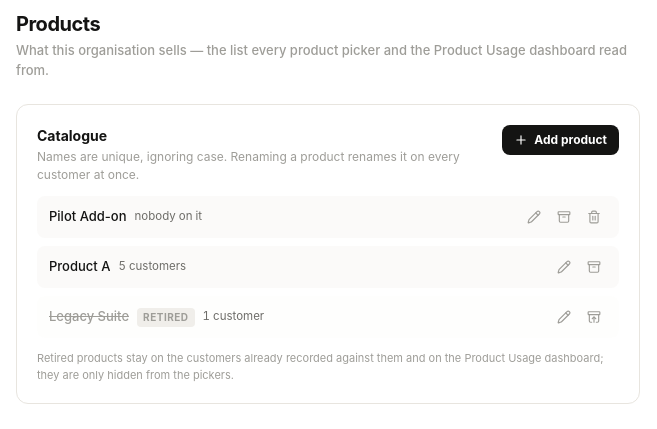
ProductsPage › renames a product in place
This screenshot has width=657, height=429.
Expected: the text "Product A" is shown, [49, 257, 110, 277]
Click the button named "Rename Product A" at [564, 267], box [551, 254, 577, 280]
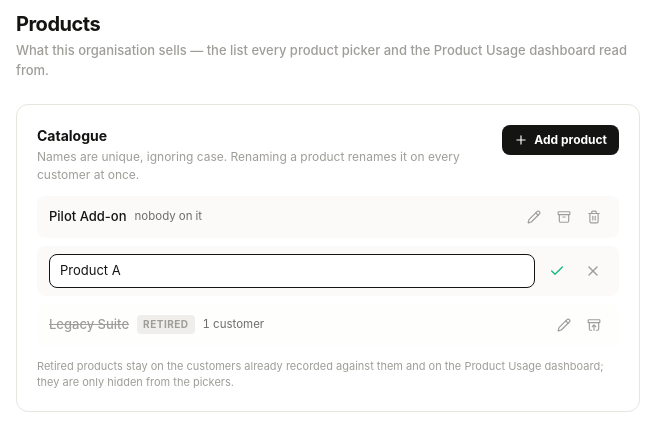
Replace the text in the field named "New name for Product A" with "Product Alpha" at [292, 271], box [49, 254, 535, 288]
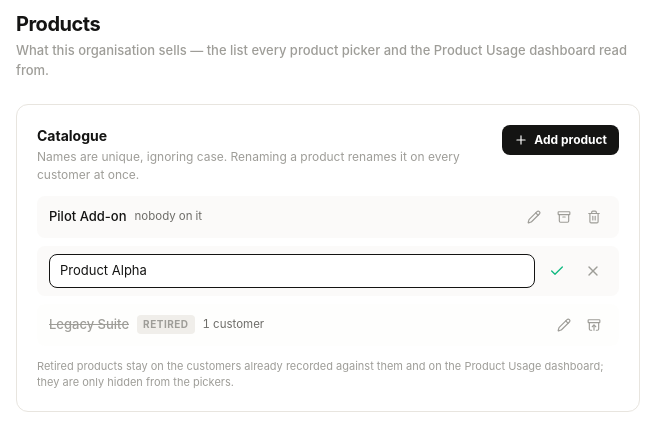
Click the button named "Save name for Product A" at [557, 271], box [543, 257, 571, 285]
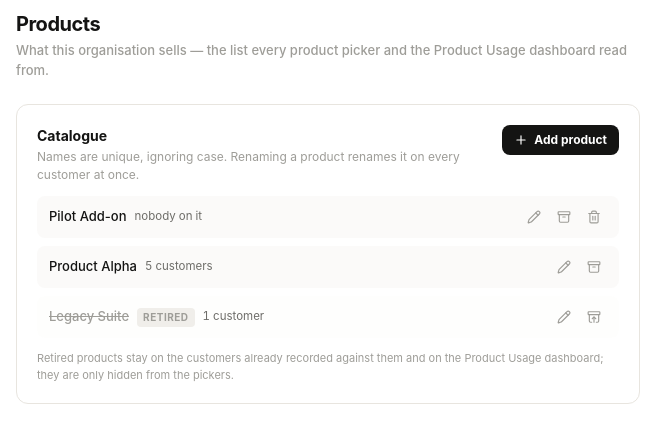
Result: the text "Product Alpha" is shown at [49, 257, 137, 277]
